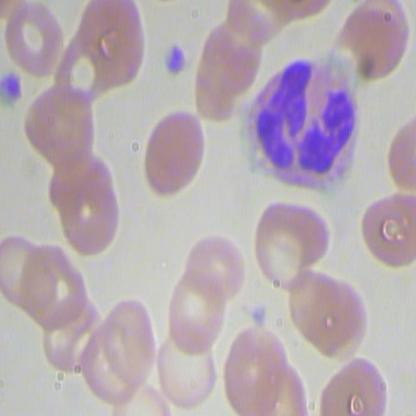Platelets: (164, 41, 191, 81), (1, 65, 22, 107)
RBC: (279, 261, 370, 364), (134, 108, 216, 205), (20, 85, 101, 169), (154, 313, 222, 410), (333, 1, 411, 85), (164, 265, 231, 362), (221, 322, 289, 415), (95, 296, 162, 387), (21, 236, 88, 327), (200, 10, 266, 101), (254, 196, 330, 270), (57, 174, 121, 259), (1, 1, 64, 83), (185, 224, 247, 298), (317, 354, 390, 415)
WBC: (237, 55, 367, 201)
